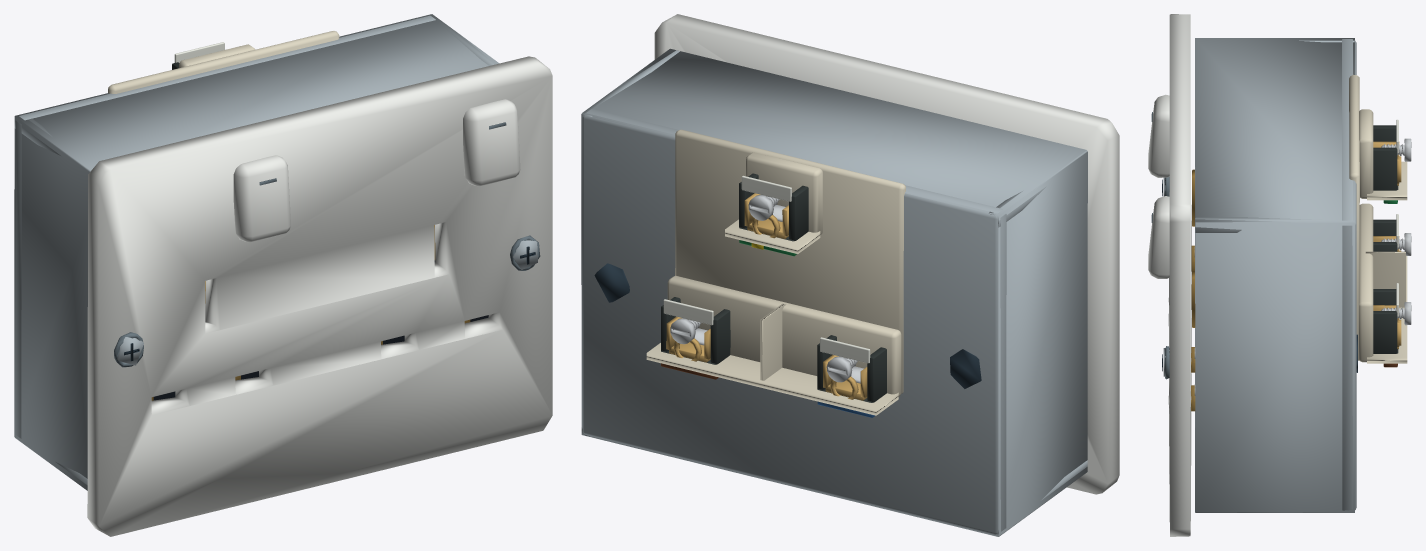
The model's file is socket_default.low.glb.
The picture shows the model from 3 angles, left to right: view 1: azimuth 30°, elevation 25°; view 2: azimuth 150°, elevation 25°; view 3: azimuth 270°, elevation 25°; orthographic projection. The views are drawn at different scales.
Parts seen in each view (by area): view 1: part:cover, part:body · Original 2a8198d3, motion:rocker, motion:rocker.001, part:terminals · Original 5a609f27, part:cover · Original 2a8198d3, part:cover · Original 0905ee26; view 2: part:body · Original 2a8198d3, part:terminals · Original 5a609f27, part:cover, part:body · Original a463fd81, detail:terminal-clamp:L · Detail moulded engineering polymer, detail:terminal-clamp:PE · Detail moulded engineering polyme, detail:terminal-clamp:N · Detail moulded engineering polymer, detail:terminal-clamp:N · Detail machined brass, detail:terminal-clamp:PE · Detail machined brass, detail:terminal-clamp:L · Detail machined brass, Moulded terminal legend pad, Moulded terminal legend pad.002 (+4 smaller); view 3: part:body · Original 2a8198d3, part:cover, part:terminals · Original 5a609f27, motion:rocker, motion:rocker.001, detail:terminal-clamp:PE · Detail moulded engineering polyme, detail:terminal-clamp:L · Detail moulded engineering polymer, part:body.001 · Original df732090, detail:terminal-clamp:N · Detail moulded engineering polymer.
Part boxes in pixels (x1=…): part:cover: x1=87, y1=56, x2=552, y2=536; part:body · Original 2a8198d3: x1=14, y1=14, x2=499, y2=490; motion:rocker: x1=233, y1=155, x2=290, y2=242; motion:rocker.001: x1=463, y1=99, x2=520, y2=186; part:terminals · Original 5a609f27: x1=108, y1=31, x2=339, y2=93; part:cover · Original 2a8198d3: x1=117, y1=240, x2=537, y2=365; part:cover · Original 0905ee26: x1=114, y1=235, x2=540, y2=367; part:body · Original 2a8198d3: x1=581, y1=48, x2=1087, y2=536; part:terminals · Original 5a609f27: x1=646, y1=129, x2=905, y2=415; part:cover: x1=654, y1=14, x2=1119, y2=494; part:body · Original a463fd81: x1=594, y1=263, x2=981, y2=388; detail:terminal-clamp:L · Detail moulded engineering polymer: x1=661, y1=297, x2=730, y2=364; detail:terminal-clamp:PE · Detail moulded engineering polyme: x1=739, y1=173, x2=808, y2=241; detail:terminal-clamp:N · Detail moulded engineering polymer: x1=817, y1=335, x2=886, y2=402; detail:terminal-clamp:N · Detail machined brass: x1=823, y1=355, x2=867, y2=400; detail:terminal-clamp:PE · Detail machined brass: x1=744, y1=193, x2=788, y2=238; detail:terminal-clamp:L · Detail machined brass: x1=666, y1=316, x2=710, y2=362; Moulded terminal legend pad: x1=663, y1=299, x2=713, y2=325; Moulded terminal legend pad.002: x1=741, y1=175, x2=791, y2=201; part:body · Original 2a8198d3: x1=1195, y1=38, x2=1356, y2=512; part:cover: x1=1168, y1=14, x2=1191, y2=536; part:terminals · Original 5a609f27: x1=1349, y1=74, x2=1407, y2=363; motion:rocker: x1=1148, y1=94, x2=1169, y2=177; motion:rocker.001: x1=1148, y1=196, x2=1169, y2=278; detail:terminal-clamp:PE · Detail moulded engineering polyme: x1=1373, y1=125, x2=1398, y2=190; detail:terminal-clamp:L · Detail moulded engineering polymer: x1=1373, y1=289, x2=1398, y2=353; part:body.001 · Original df732090: x1=1191, y1=169, x2=1195, y2=411; detail:terminal-clamp:N · Detail moulded engineering polymer: x1=1373, y1=219, x2=1397, y2=251.
Size of the model in its own units: 1.05 by 0.8161 by 0.5859.
